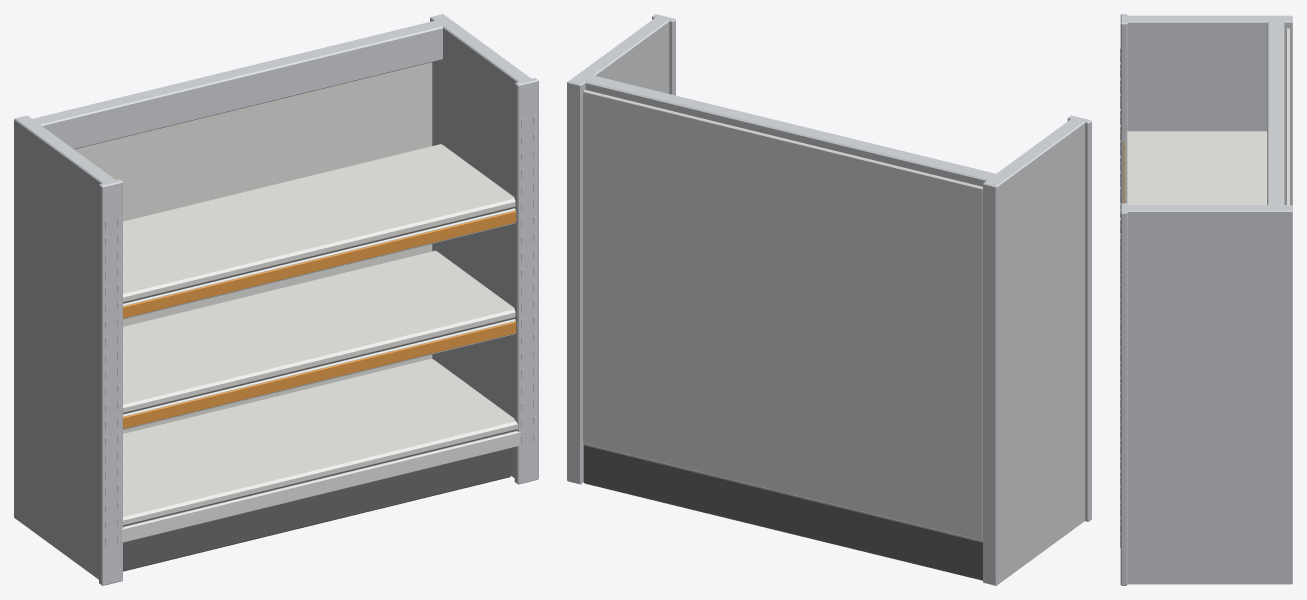
3 renders of one model, left to right at view 1: azimuth 30°, elevation 25°; view 2: azimuth 150°, elevation 25°; view 3: azimuth 270°, elevation 25°, orthographic. The views are drawn at different scales.
Parts seen in each view (by area): view 1: half-height-bay; view 2: half-height-bay; view 3: half-height-bay.
Part boxes in pixels (left/top/right/bottom): half-height-bay: left=14, top=14, right=538, bottom=585; half-height-bay: left=567, top=14, right=1091, bottom=585; half-height-bay: left=1120, top=14, right=1292, bottom=585.
Bounding box in the file's own units: 1.37 × 1.2 × 0.503.
